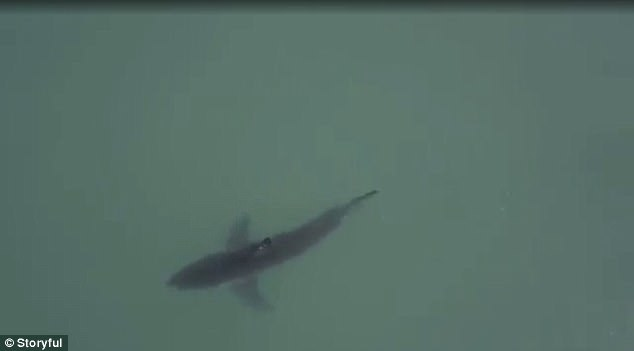shark: (154, 186, 384, 318)
